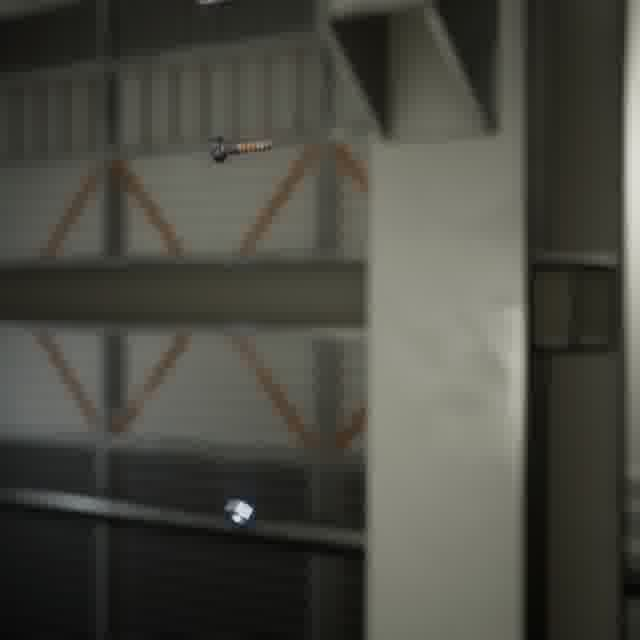bolt: (206, 131, 279, 167)
nut: (220, 495, 260, 531)
